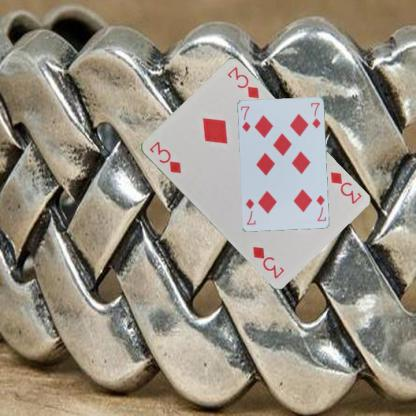3d: (146, 138, 182, 175), (327, 169, 363, 205)
7d: (238, 103, 251, 133), (314, 192, 326, 223)
